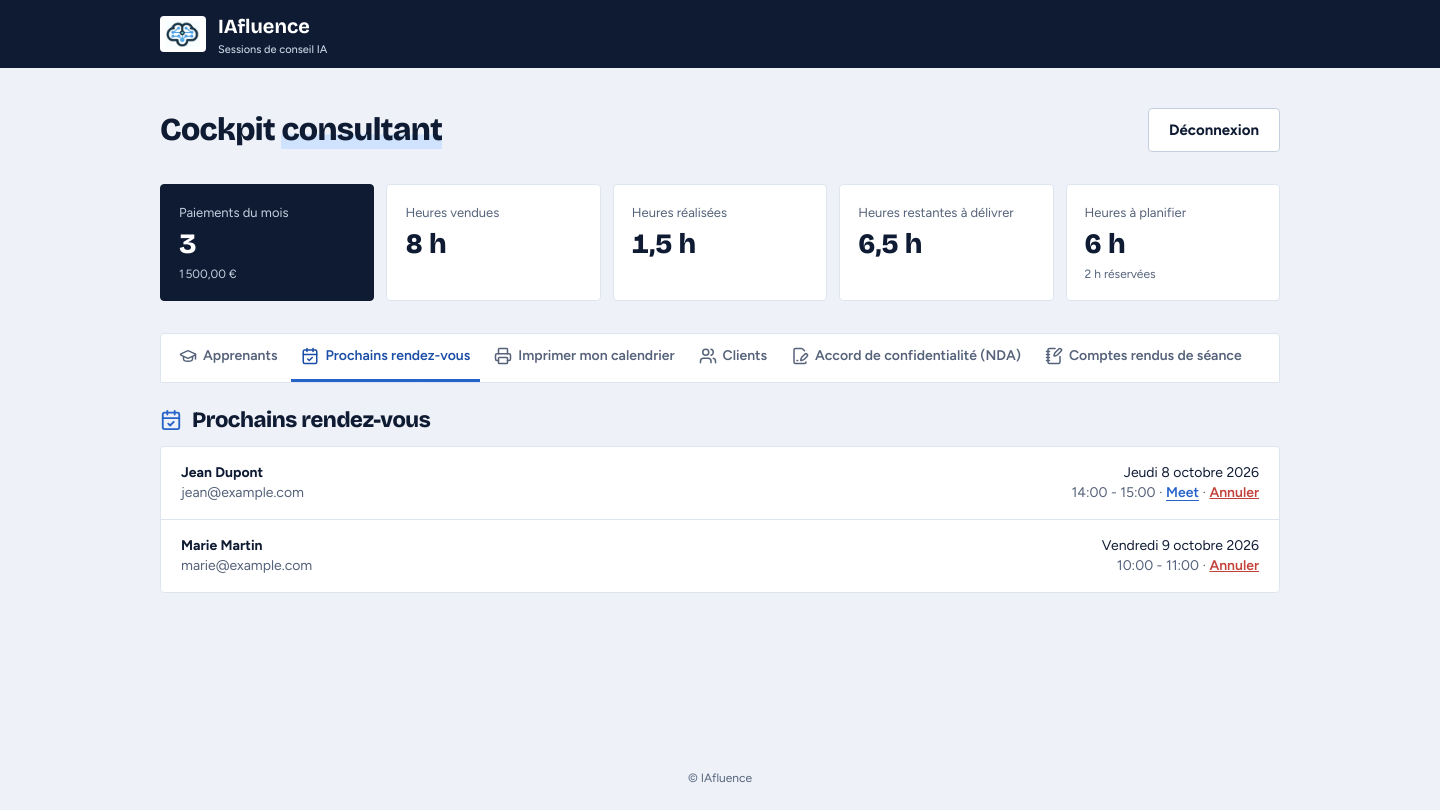
it: Cockpit › cancels without emailing the client when unticked
The width and height of the screenshot is (1440, 810).
Click the button with aria-label "Annuler la séance de Marie Martin" at (1234, 566), box [1209,556,1259,576]
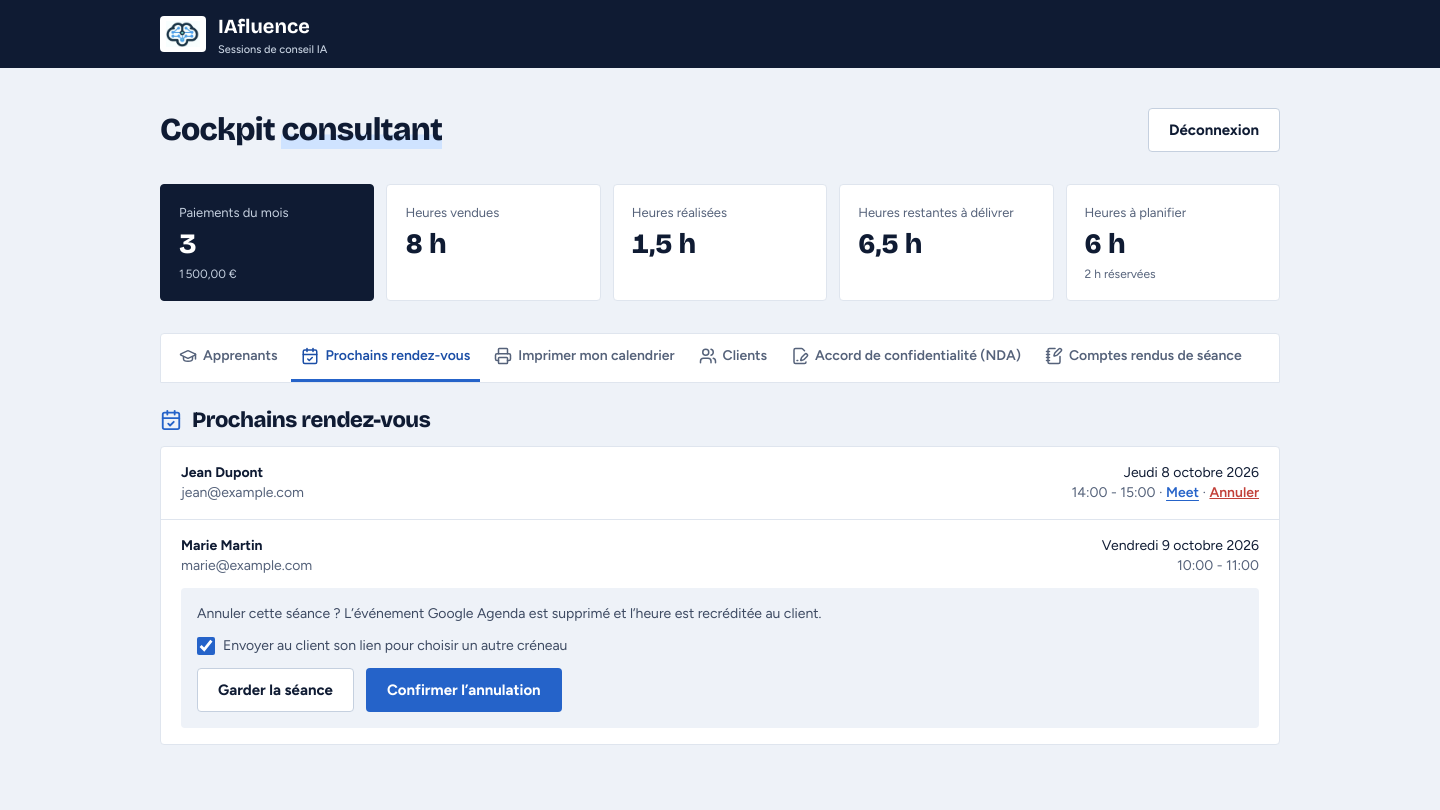
Click the checkbox labelled "Envoyer au client son lien pour choisir un autre créneau" at (206, 646), box [197,637,215,655]
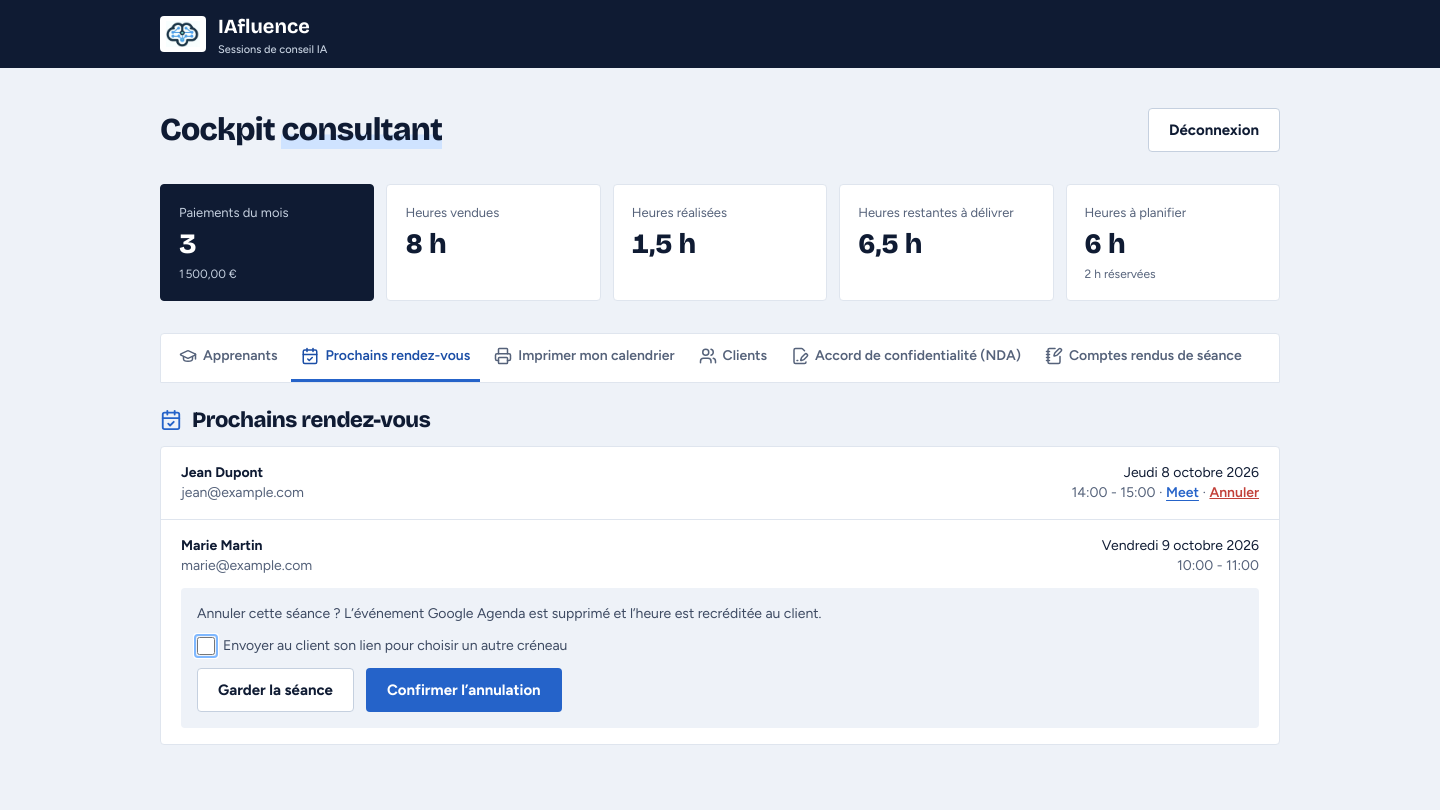
Click the button "Confirmer l’annulation" at (464, 690), box [366,668,562,712]
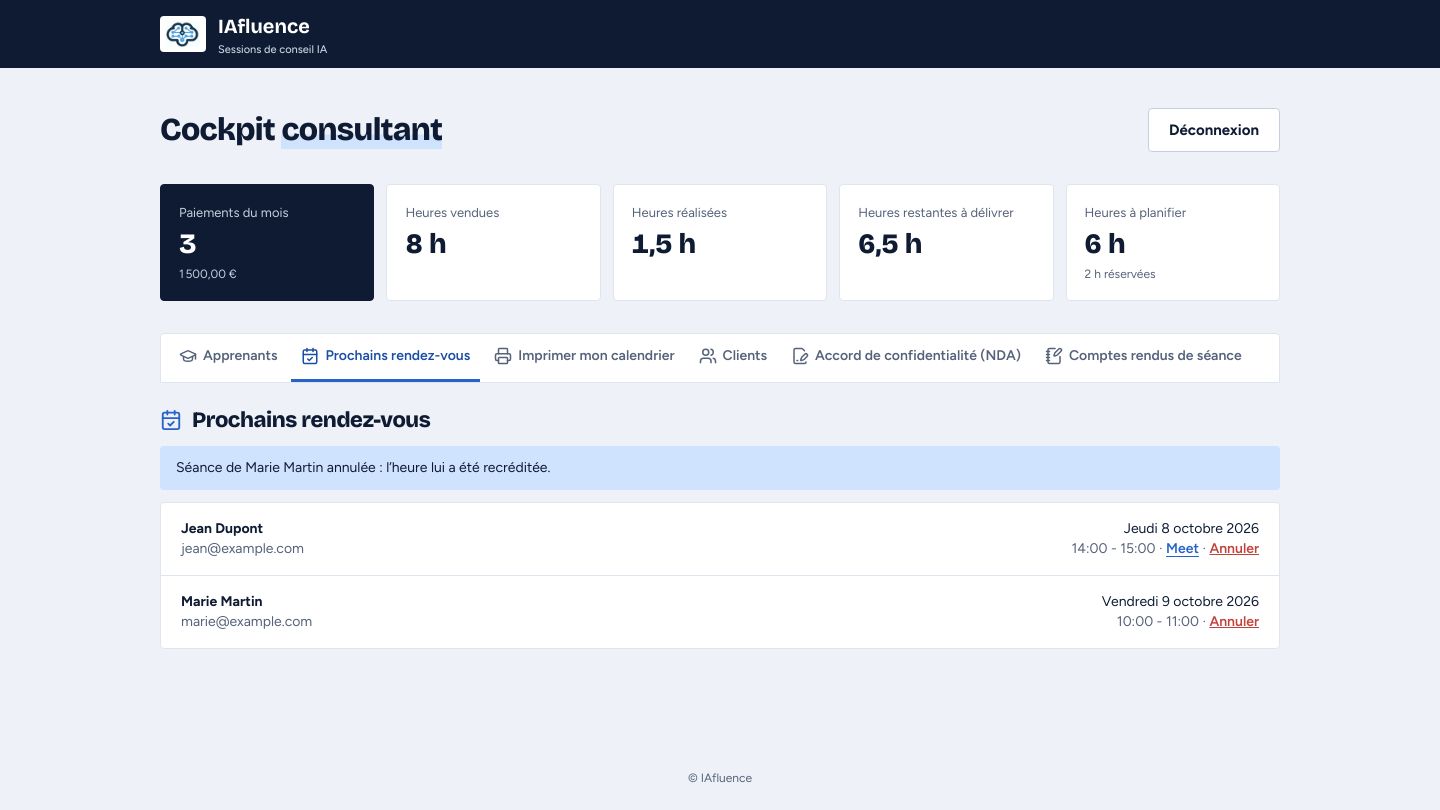
Result: the message reads "Séance de Marie Martin annulée : l’heure lui a été recréditée." at [176,459,550,476]
// Reopening resets the choice to "notify".
Click the button with aria-label "Annuler la séance de Jean Dupont" at (1234, 549), box [1209,539,1259,559]
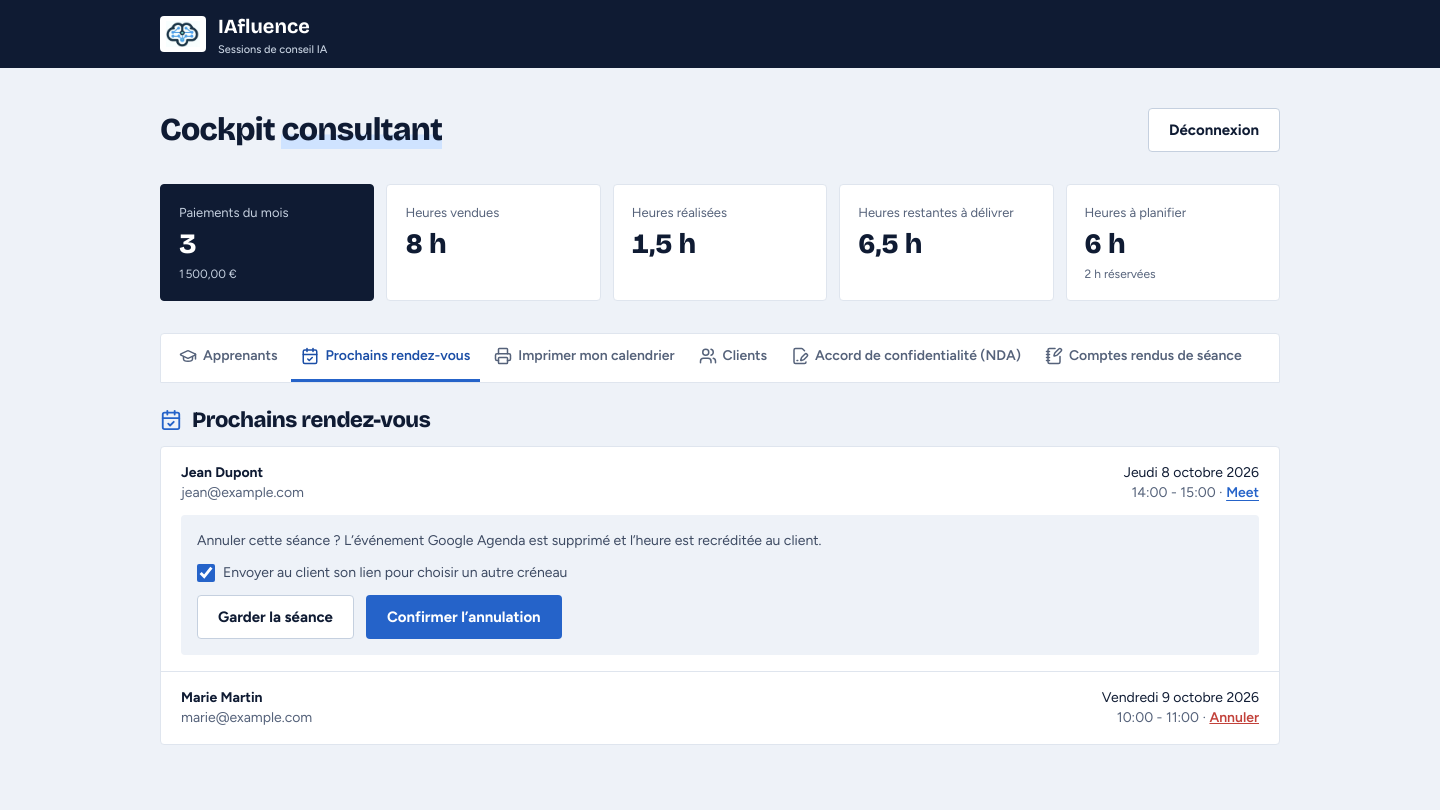
Result: the message "Séance de Marie Martin annulée : l’heure lui a été recréditée." is gone
Result: the checkbox labelled "Envoyer au client son lien pour choisir un autre créneau" is checked at [197,564,215,582]
